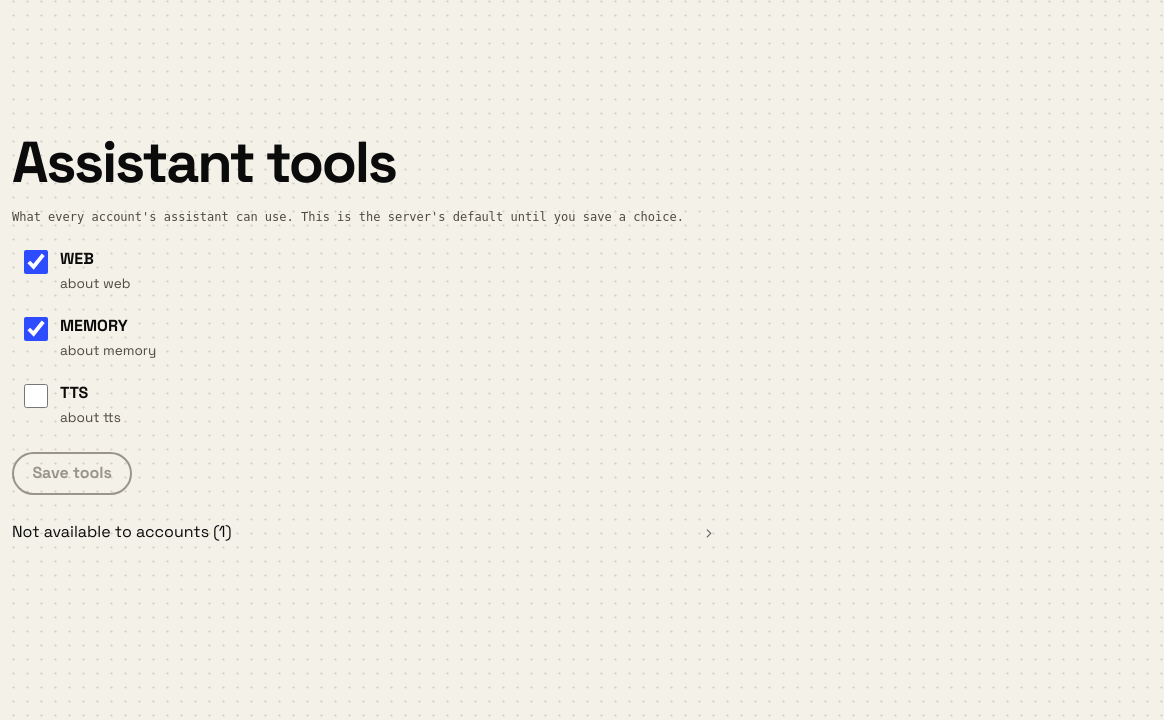
Test case: Admin → Assistant tools › saves only the offered tools chosen and says how many accounts are re-checked
Click the checkbox labelled "TTS about tts" at (36, 396), box x1=24 y1=384 x2=48 y2=408
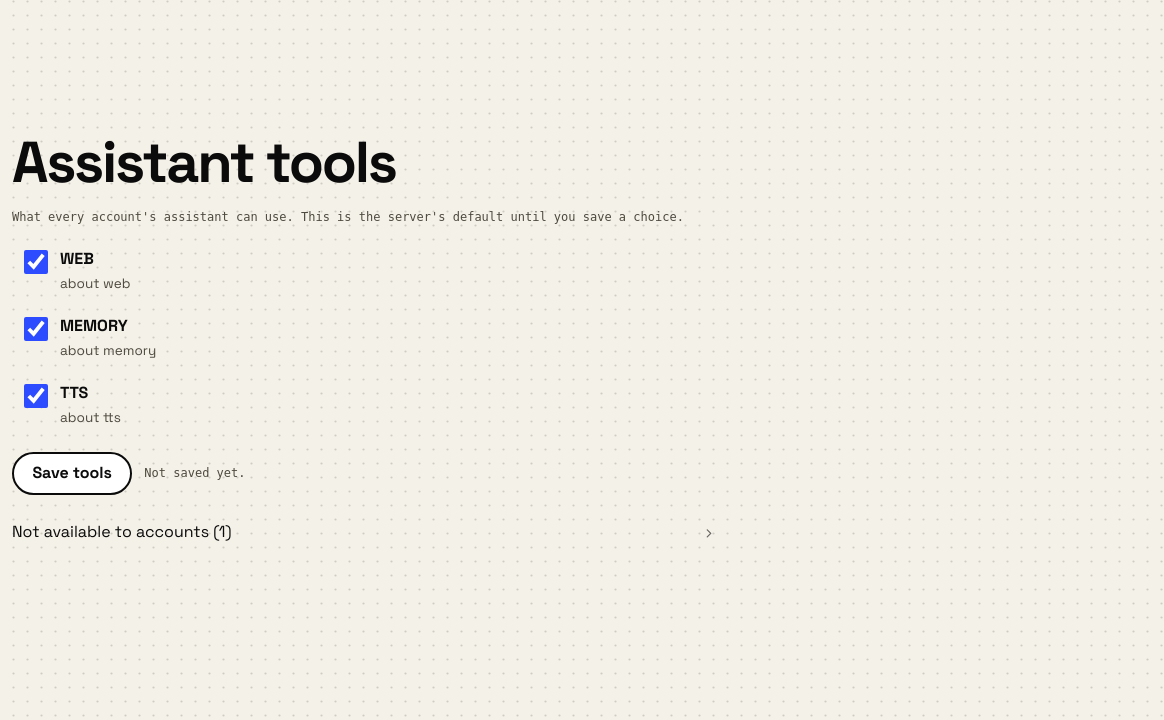
Now the message reads "Not saved yet.", box x1=144 y1=466 x2=246 y2=480
Click the button "Save tools" at (72, 473), box x1=12 y1=452 x2=132 y2=495
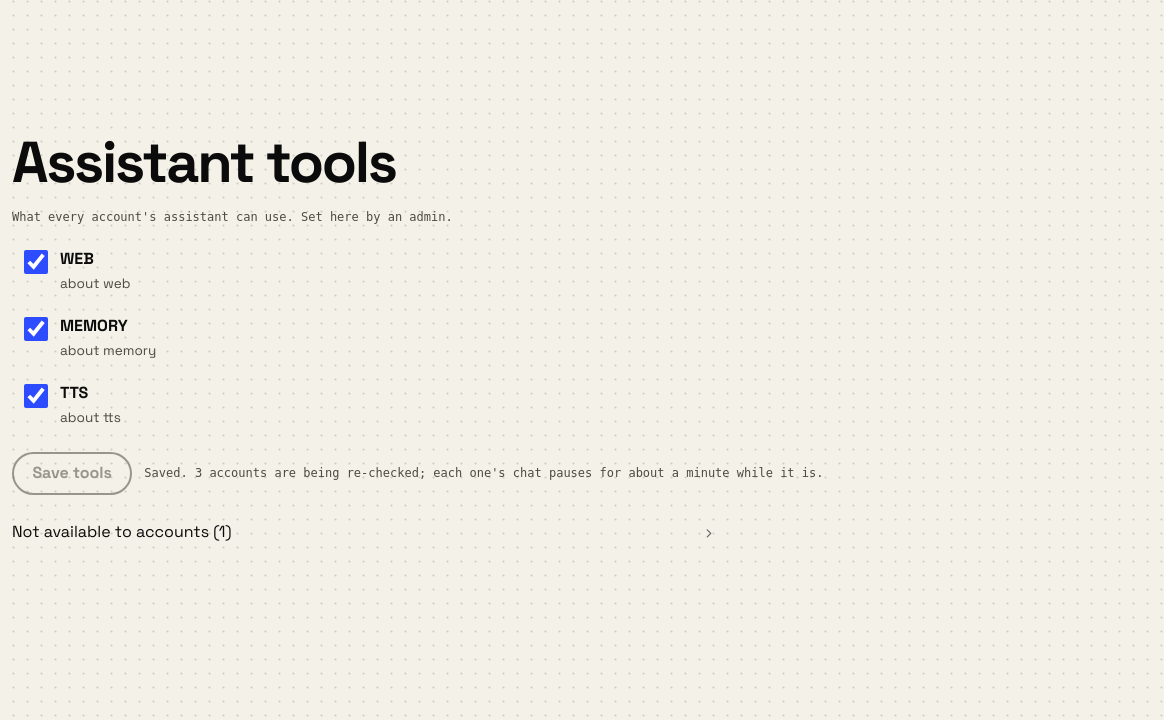
Now the message shows "3 accounts are being re-checked", box x1=144 y1=466 x2=824 y2=480
Now the button "Save tools" is disabled, box x1=12 y1=452 x2=132 y2=495
